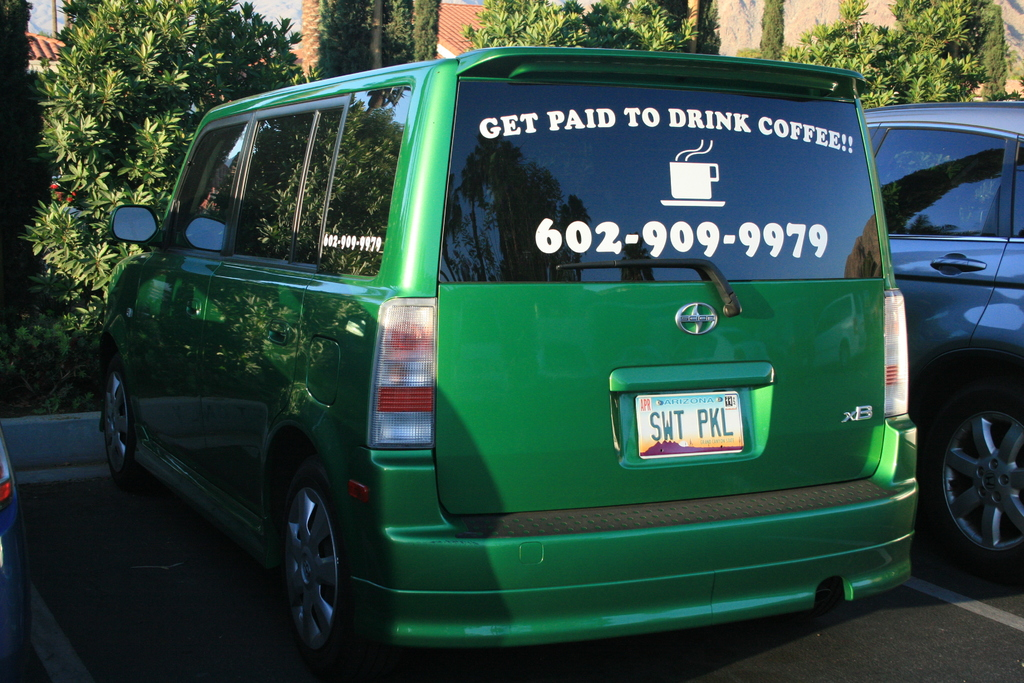Tree: (0, 0, 1007, 402)
